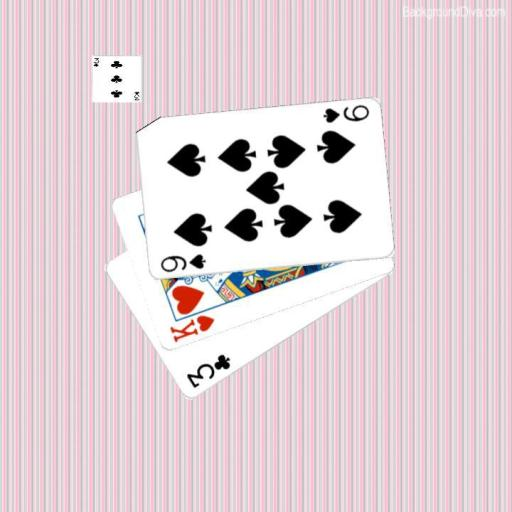3C: (183, 352, 232, 391)
9S: (156, 251, 207, 275), (320, 102, 370, 125)
KH: (167, 312, 217, 344)
